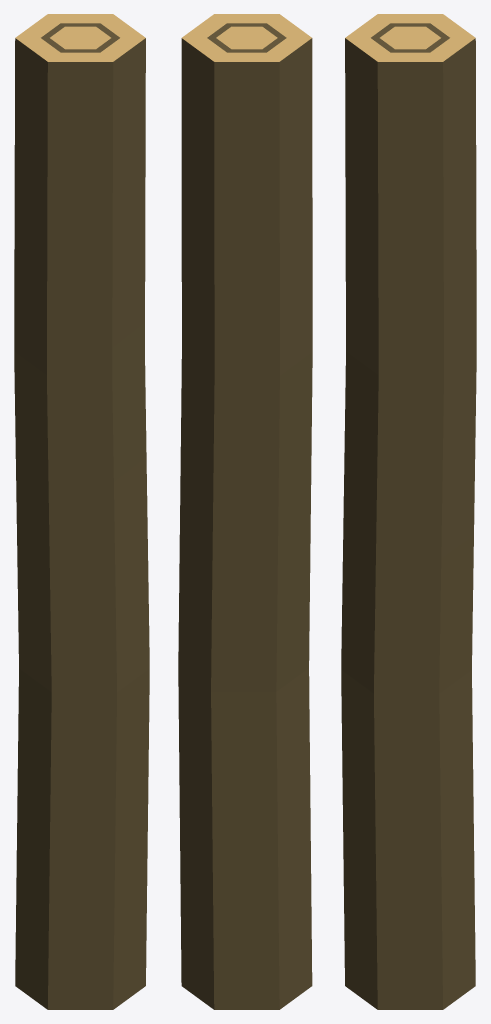
Rendered from WoodPilar1.fbx.
3 views of the same model, side by side, from view 1: azimuth 90°, elevation 25°; view 2: azimuth 210°, elevation 25°; view 3: azimuth 270°, elevation 25° (orthographic).
Visible parts, largest first — view 1: Цилиндр; view 2: Цилиндр; view 3: Цилиндр.
Part boxes in pixels (x1,y1,x2,y2): Цилиндр: [14, 14, 149, 1009]; Цилиндр: [178, 14, 312, 1009]; Цилиндр: [341, 14, 476, 1009].
Bounding box in the file's own units: 21.93 × 200 × 25.93.
